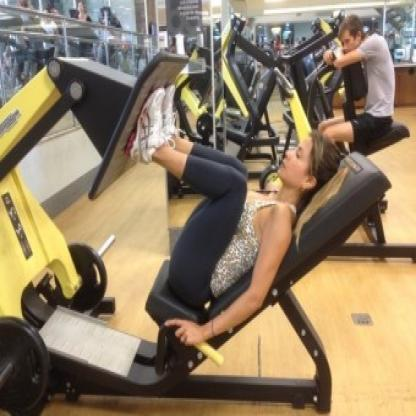leg press: (0, 29, 394, 416)
